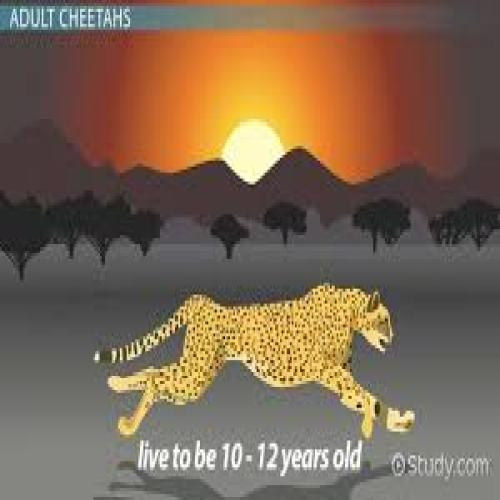cheetah-endangered: (104, 283, 411, 441)
